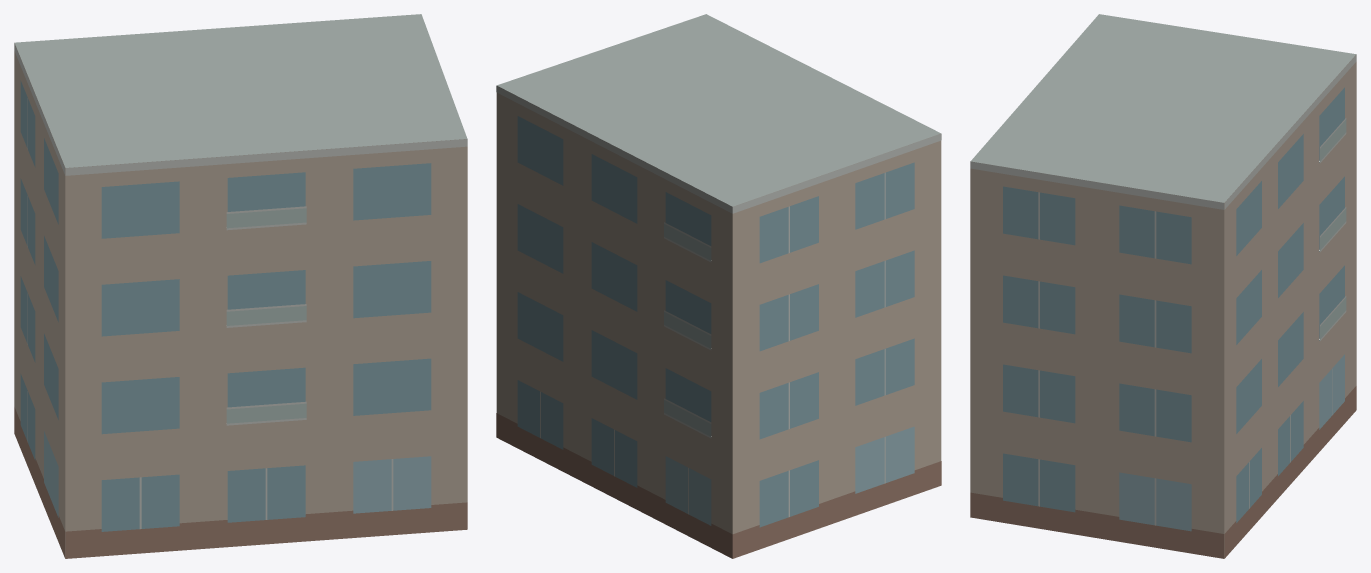
The model's file is survey-upis-32682120.glb.
3 views of the same model, side by side, from view 1: azimuth 30°, elevation 25°; view 2: azimuth 150°, elevation 25°; view 3: azimuth 270°, elevation 25° (orthographic). The views are drawn at different scales.
Visible parts, largest first — view 1: survey-upis-32682120.tmp; view 2: survey-upis-32682120.tmp; view 3: survey-upis-32682120.tmp.
Part boxes in pixels (<box>): survey-upis-32682120.tmp: <box>14,14,467,558</box>; survey-upis-32682120.tmp: <box>496,14,941,558</box>; survey-upis-32682120.tmp: <box>970,14,1356,558</box>.
Bounding box in the file's own units: 13.89 × 12.2 × 12.
